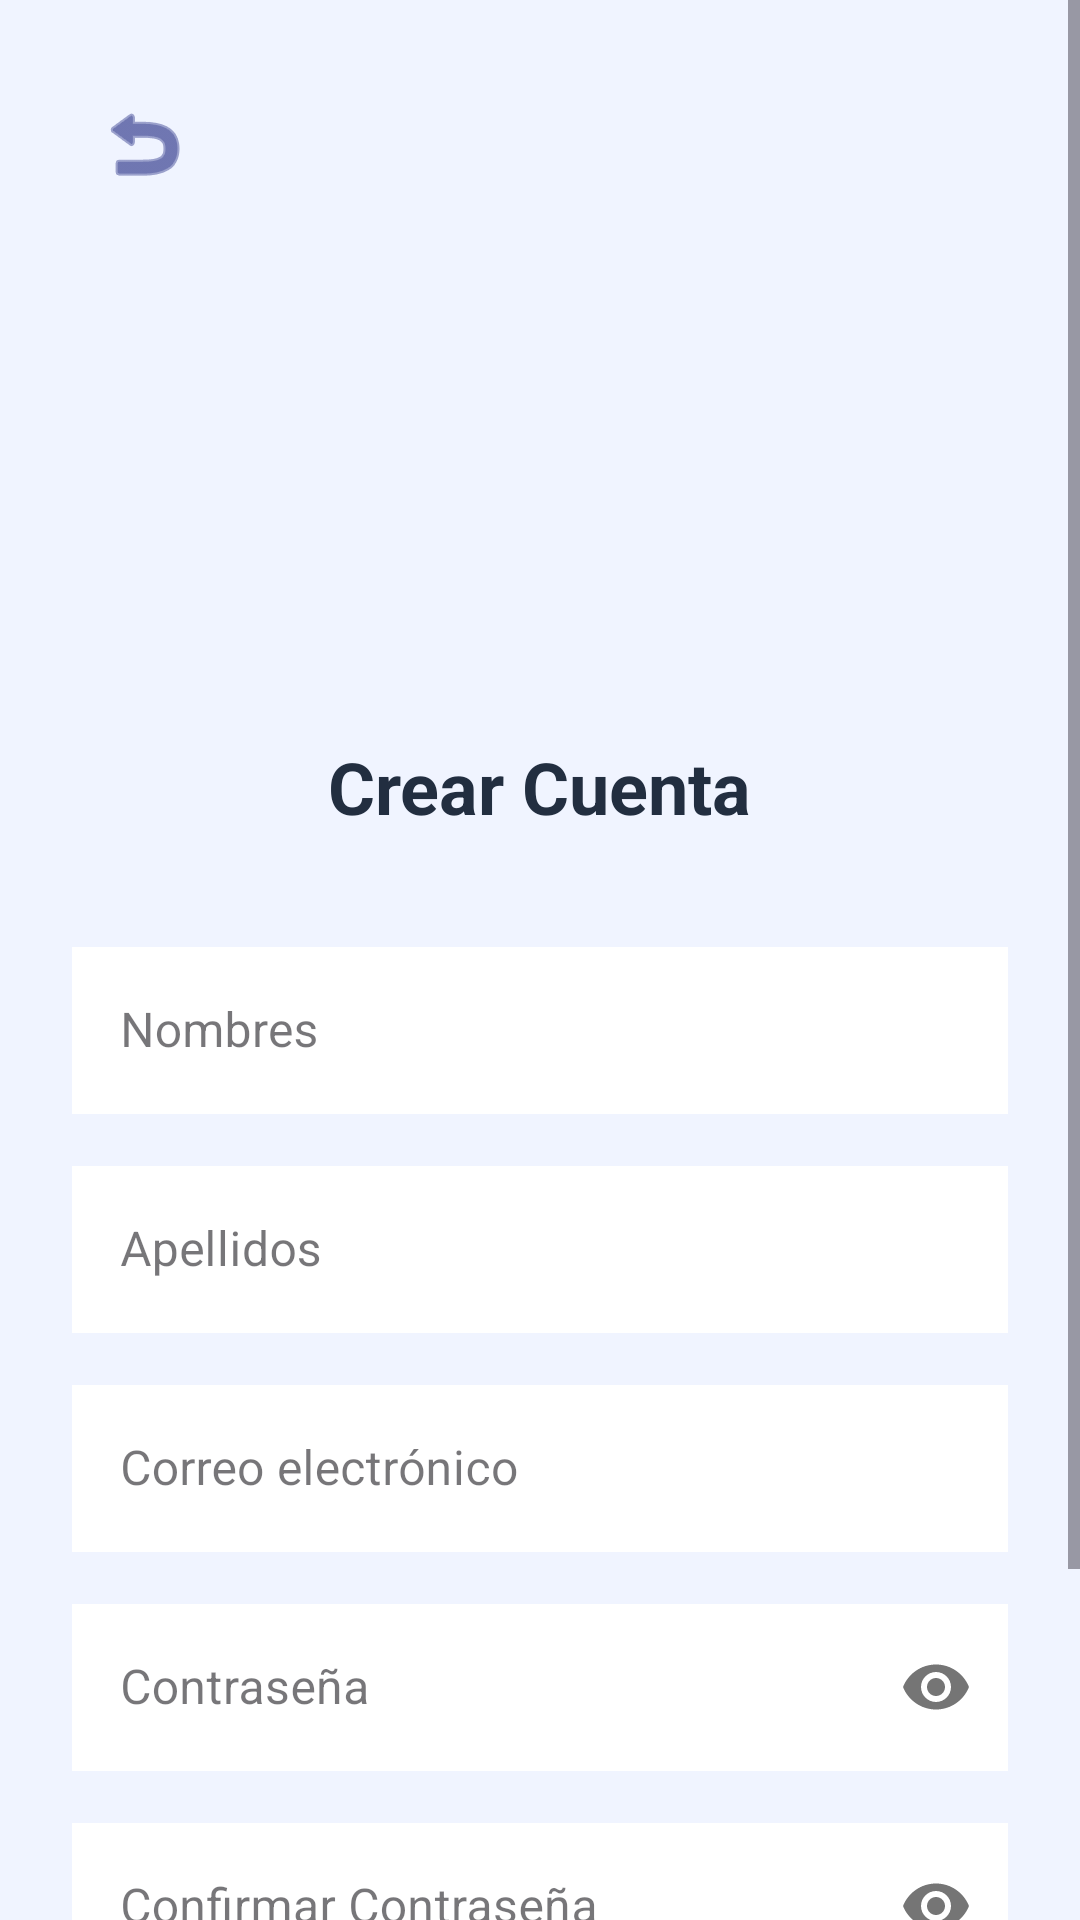

Named icons in this screenshot (1080px x 1920px) and their centers, point (x, y):
Volver: point (145, 144)
